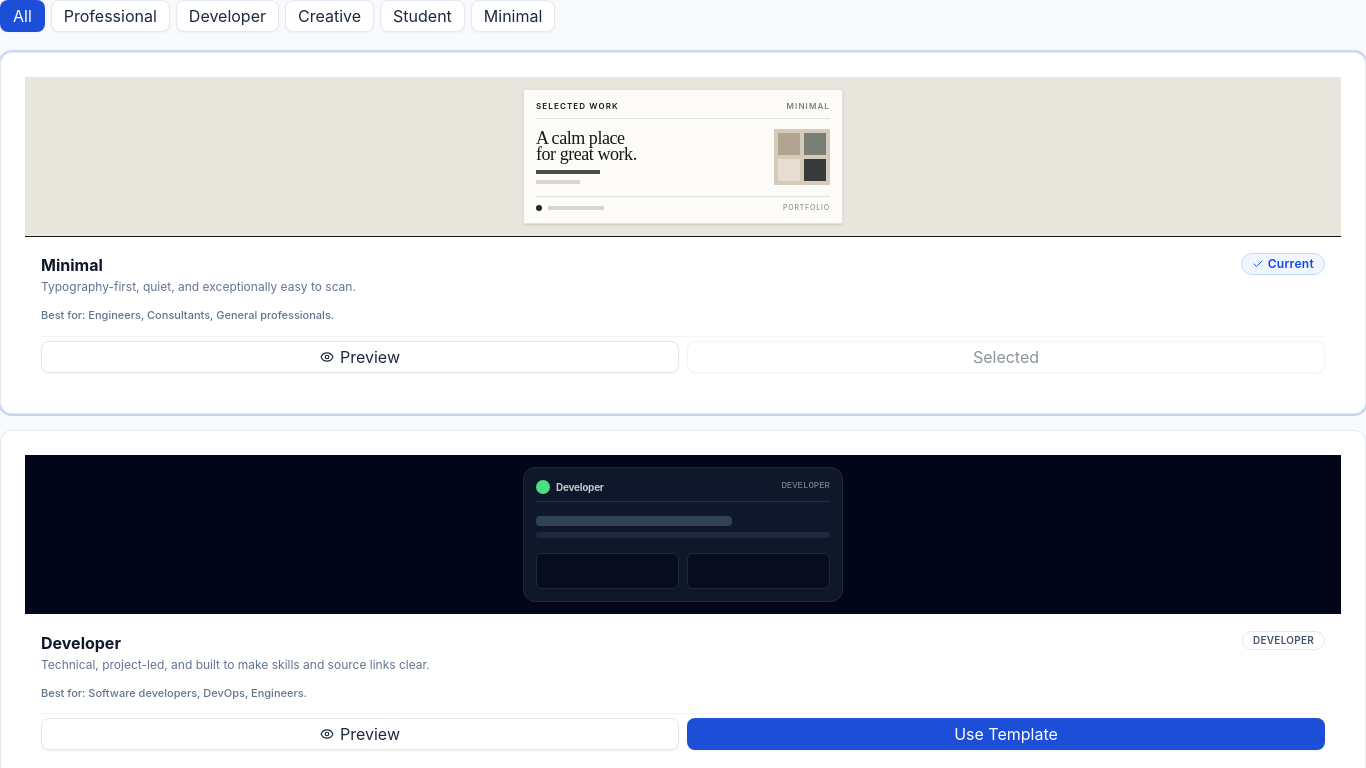
TemplateGallery › keeps the current selection when applying fails
The width and height of the screenshot is (1366, 768).
What coordinates should you click on to do the following:
click the button "Use Template"
I would click on:
 (1006, 734)
Its box is top-left (687, 718), bottom-right (1325, 750).
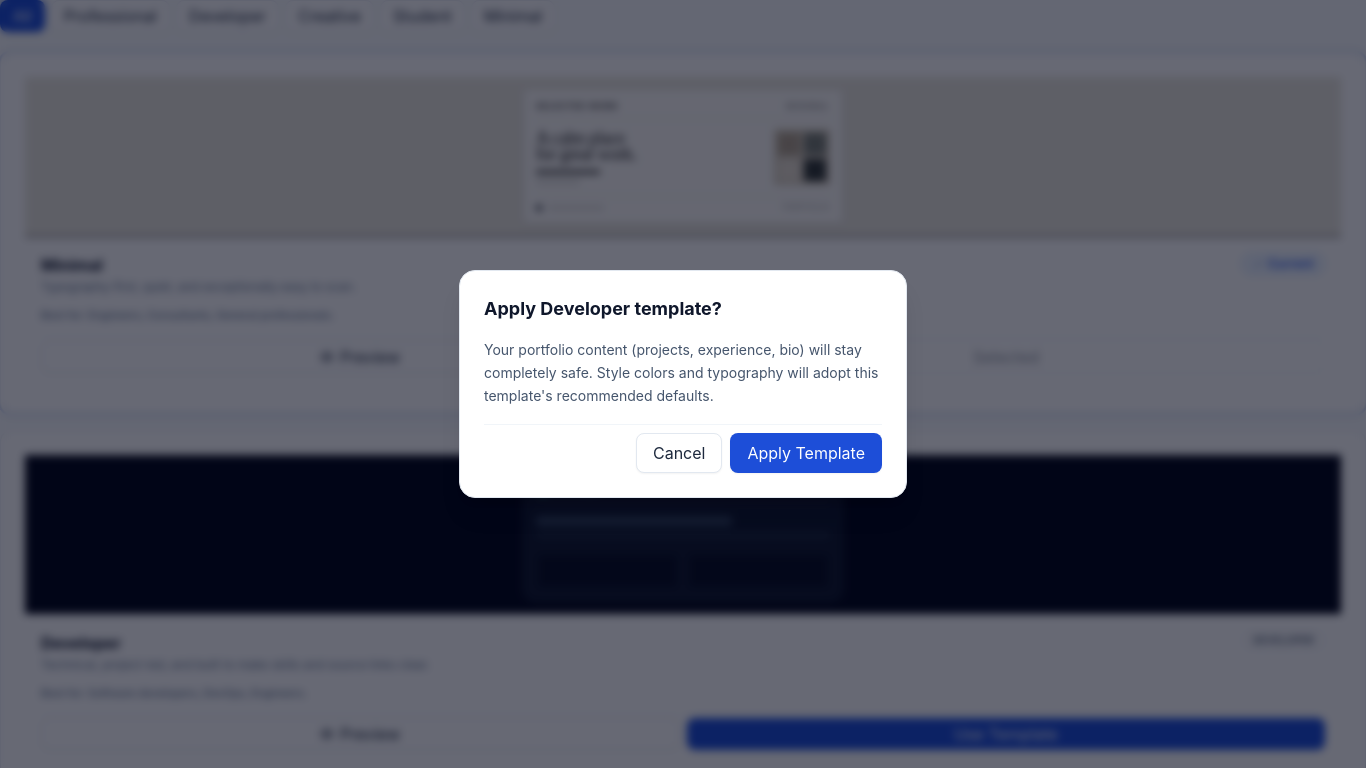
What coordinates should you click on to do the following:
click the button "Apply Template"
I would click on:
 (806, 453)
Its box is top-left (730, 433), bottom-right (882, 473).
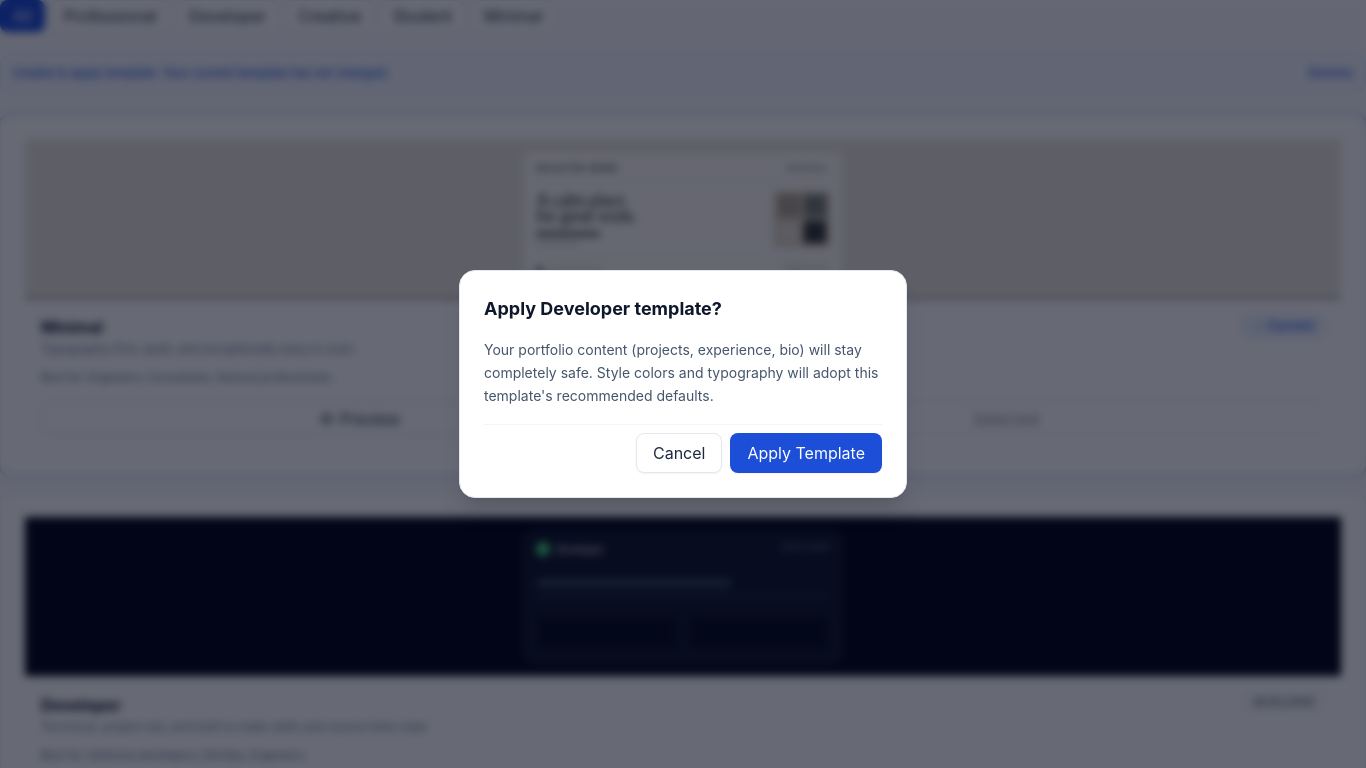
Expected: the text "Current" is shown, top-left (1268, 318), bottom-right (1314, 334)
Result: the text "current template has not changed" is shown at top-left (13, 65), bottom-right (389, 80)
